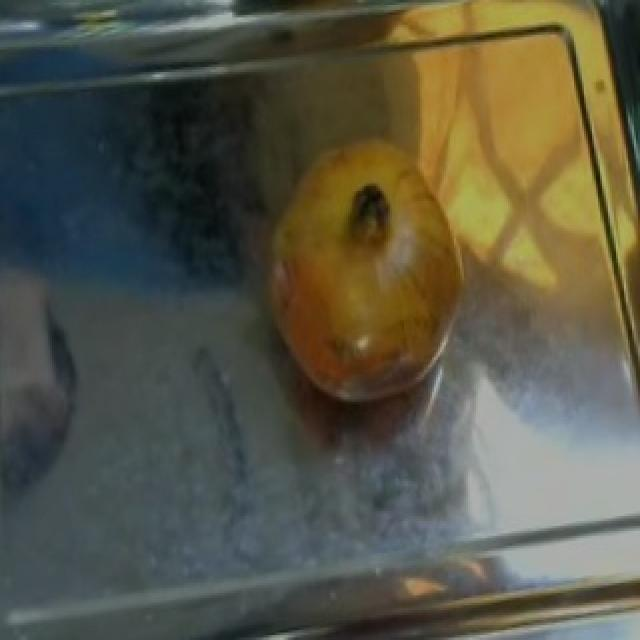fruit: (242, 158, 492, 432)
